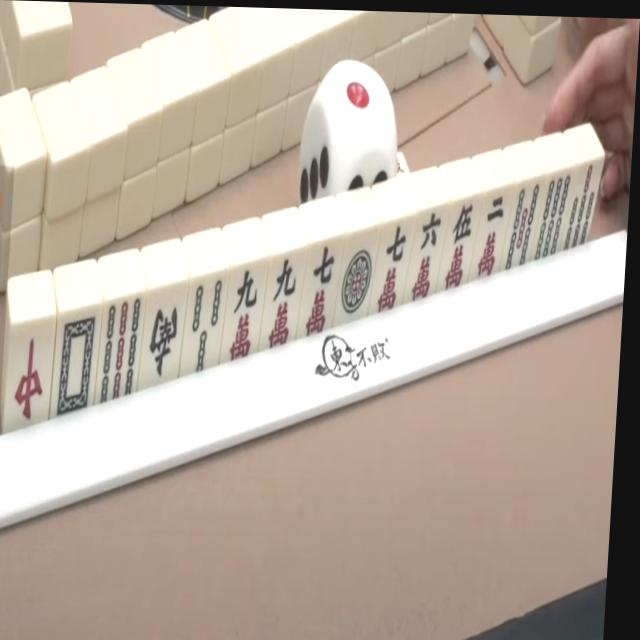bai: (54, 309, 103, 417)
m2: (472, 188, 511, 280)
m5: (441, 198, 482, 293)
m6: (408, 207, 450, 304)
m7: (301, 239, 346, 339), (371, 218, 414, 316)
m9: (263, 250, 308, 349), (224, 262, 268, 363)
s3: (184, 274, 227, 374)
s5: (504, 181, 543, 271)
s6: (534, 171, 577, 264)
s7: (562, 159, 603, 253)
s9: (95, 296, 144, 409)
south: (143, 290, 186, 387)
t1: (336, 228, 381, 325)
zhong: (8, 324, 56, 431)
